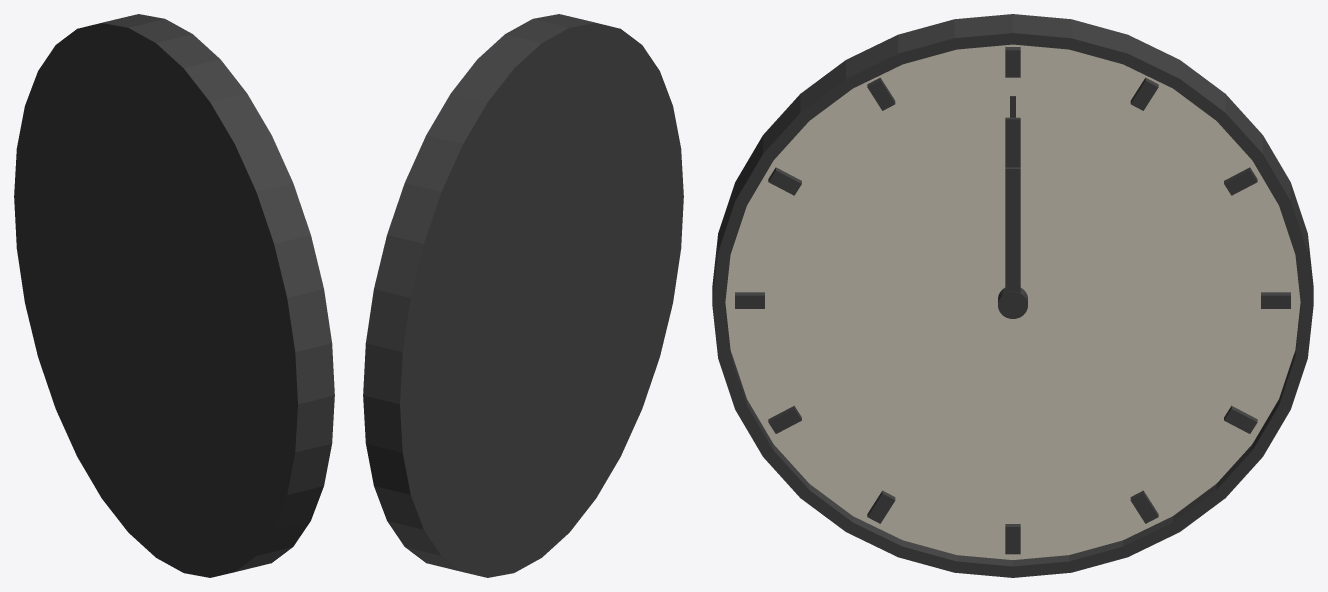
The model's file is clock.fbx.
The picture shows the model from 3 angles, left to right: view 1: azimuth 30°, elevation 25°; view 2: azimuth 150°, elevation 25°; view 3: azimuth 270°, elevation 25°; orthographic projection. The views are drawn at different scales.
Parts seen in each view (by area): view 1: Cylinder; view 2: Cylinder; view 3: Cylinder, Cube, Cube.001, Cylinder.001.
Boxes of the visible parts, box(x1,y1,x2,y2) form: Cylinder: box(14, 14, 334, 577); Cylinder: box(363, 14, 683, 577); Cylinder: box(712, 14, 1313, 577); Cube: box(1005, 167, 1020, 293); Cube.001: box(1005, 117, 1020, 167); Cylinder.001: box(998, 288, 1027, 318).
Bounding box in the file's own units: 3 × 40 × 40.
